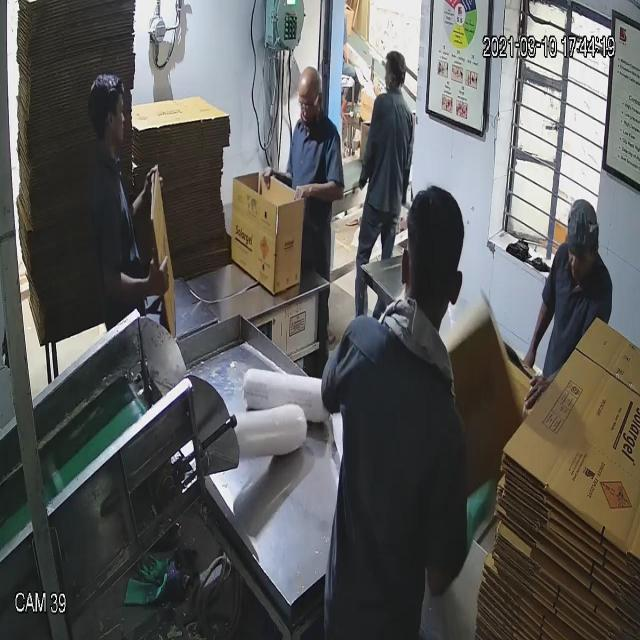No_Gloves: (38, 34, 539, 330)
